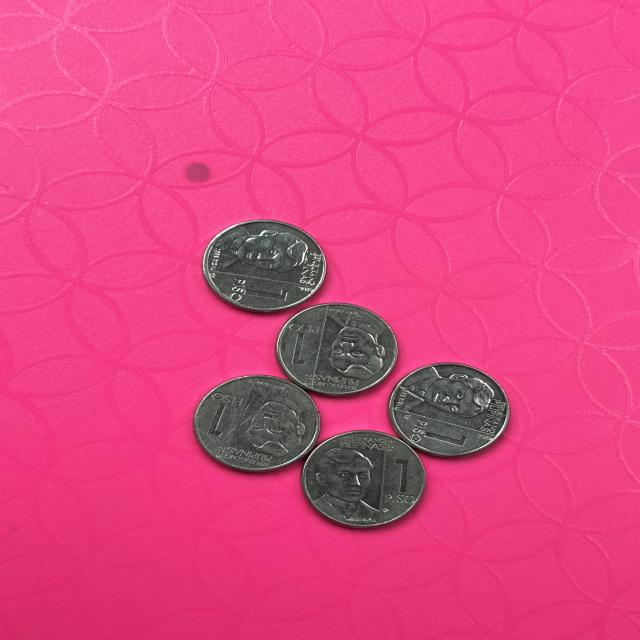1_New_Front: (224, 274, 294, 310), (406, 416, 466, 454), (387, 451, 417, 509), (199, 388, 231, 439), (288, 320, 320, 367)
